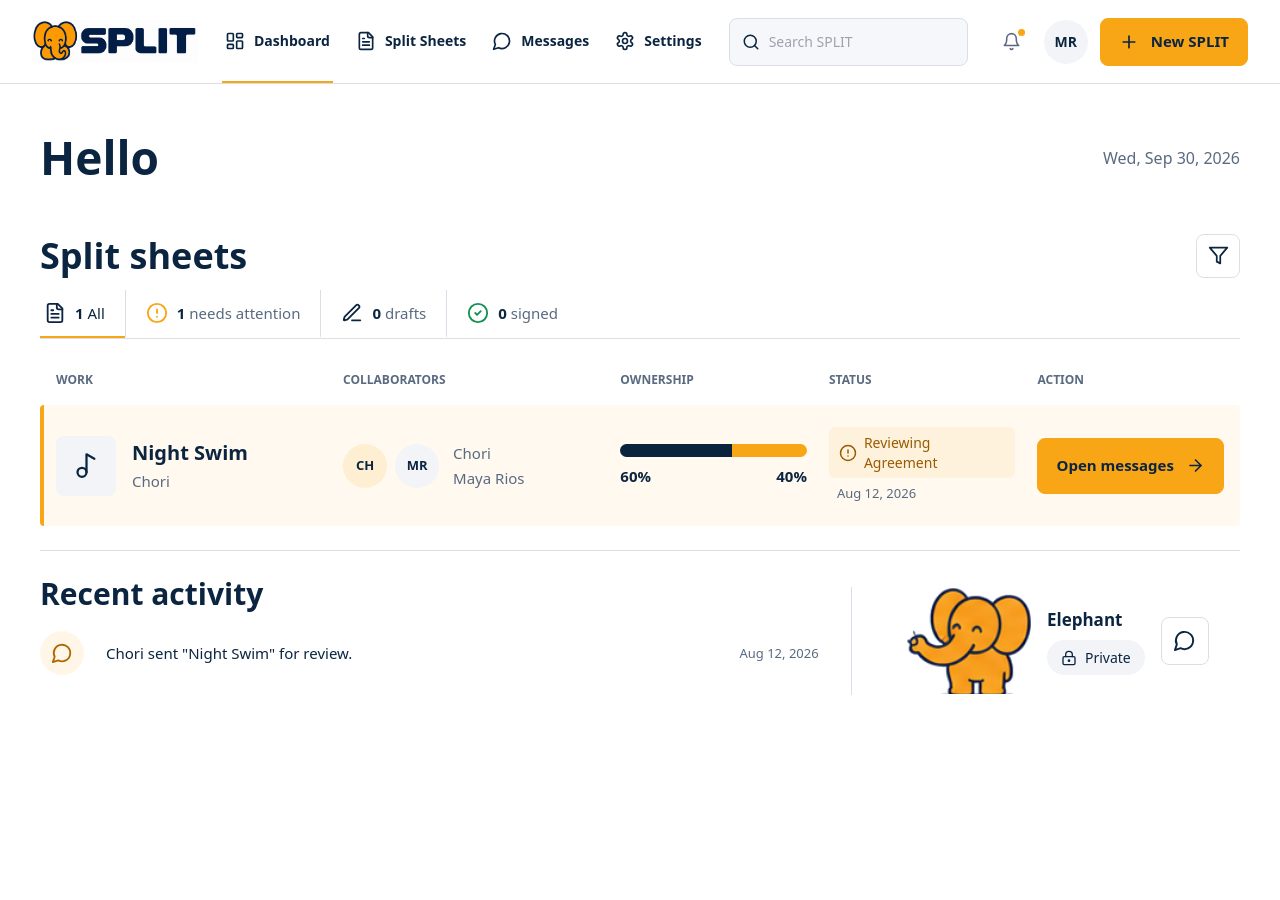
Scenario: dashboard notifications › loads real notifications into the bell and opens the related Messages room
Click the button named "Open notifications". click: (1012, 42)
box: x1=992 y1=22 x2=1032 y2=62
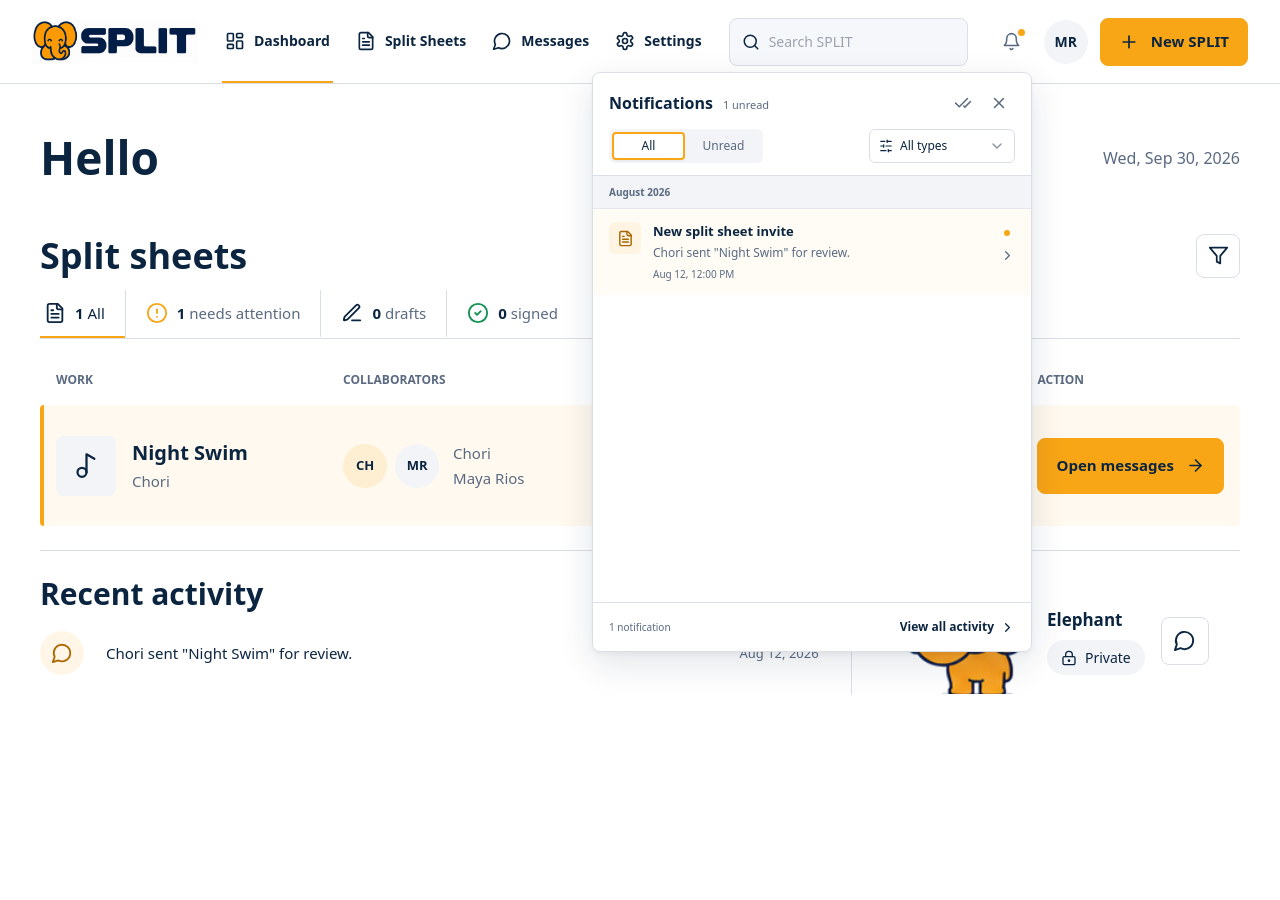
Expected: the text "Chori sent \"Night Swim\" for review." below "Recent activity" is shown, x1=106 y1=643 x2=352 y2=663
Expected: the text "New split sheet invite" is shown, x1=653 y1=222 x2=794 y2=240
Click the button "New split sheet invite". click: (812, 252)
box: x1=593 y1=209 x2=1031 y2=295
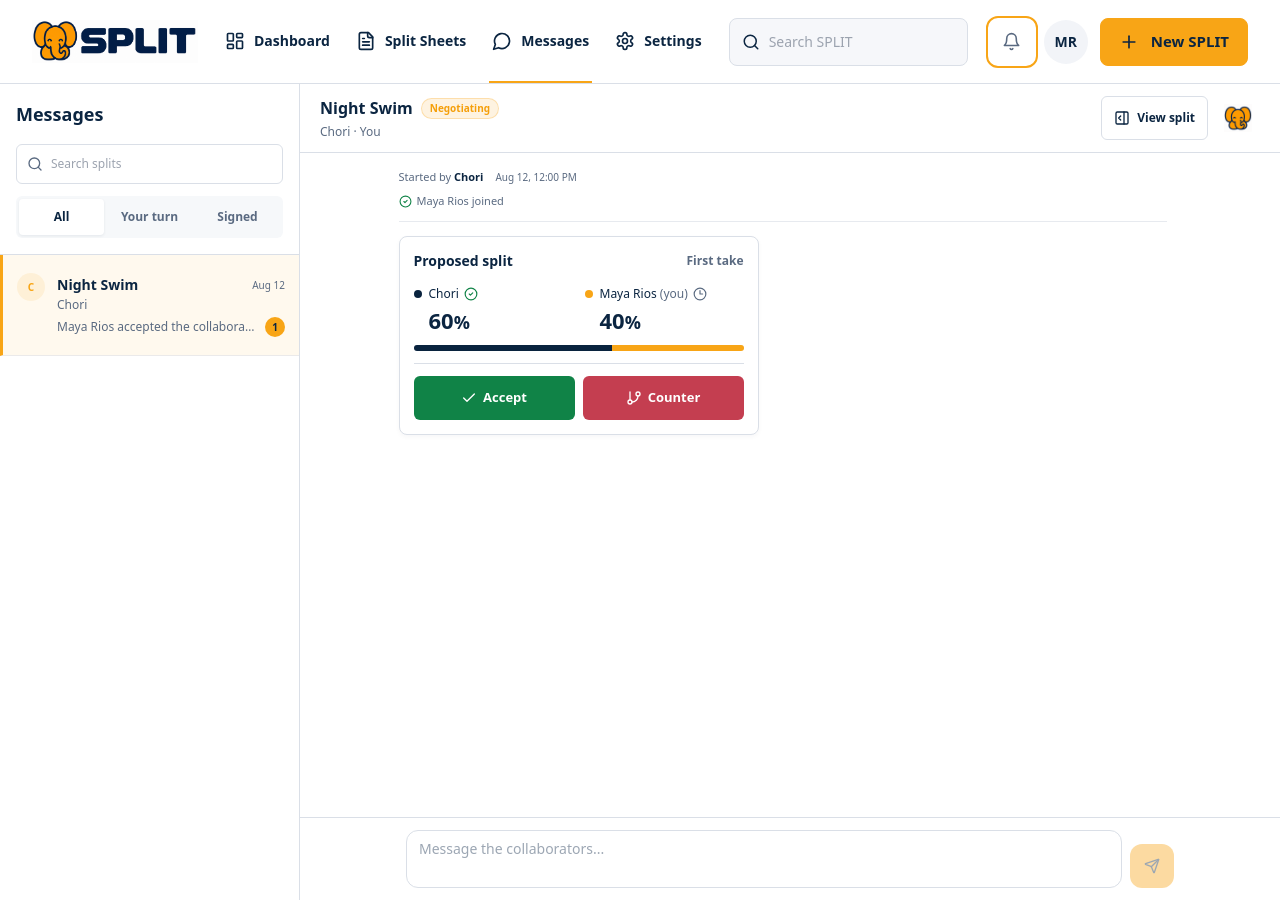
Expected: the text box with placeholder "Message the collaborators..." is shown, x1=406 y1=830 x2=1122 y2=888
